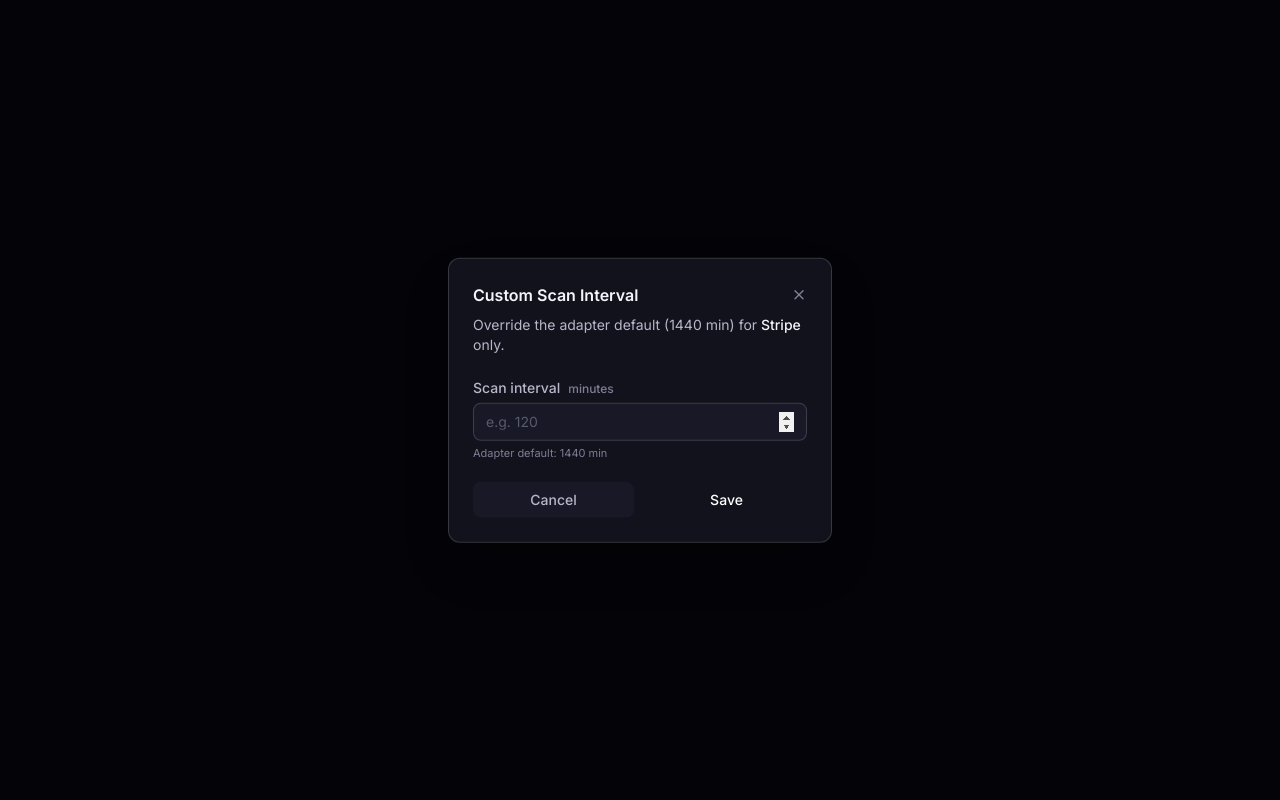
Test case: ScanIntervalOverrideModal › shows validation error for value above max
Step 1. Type "99999" into the number field → {"x": 640, "y": 422}, box [473,403,807,441]
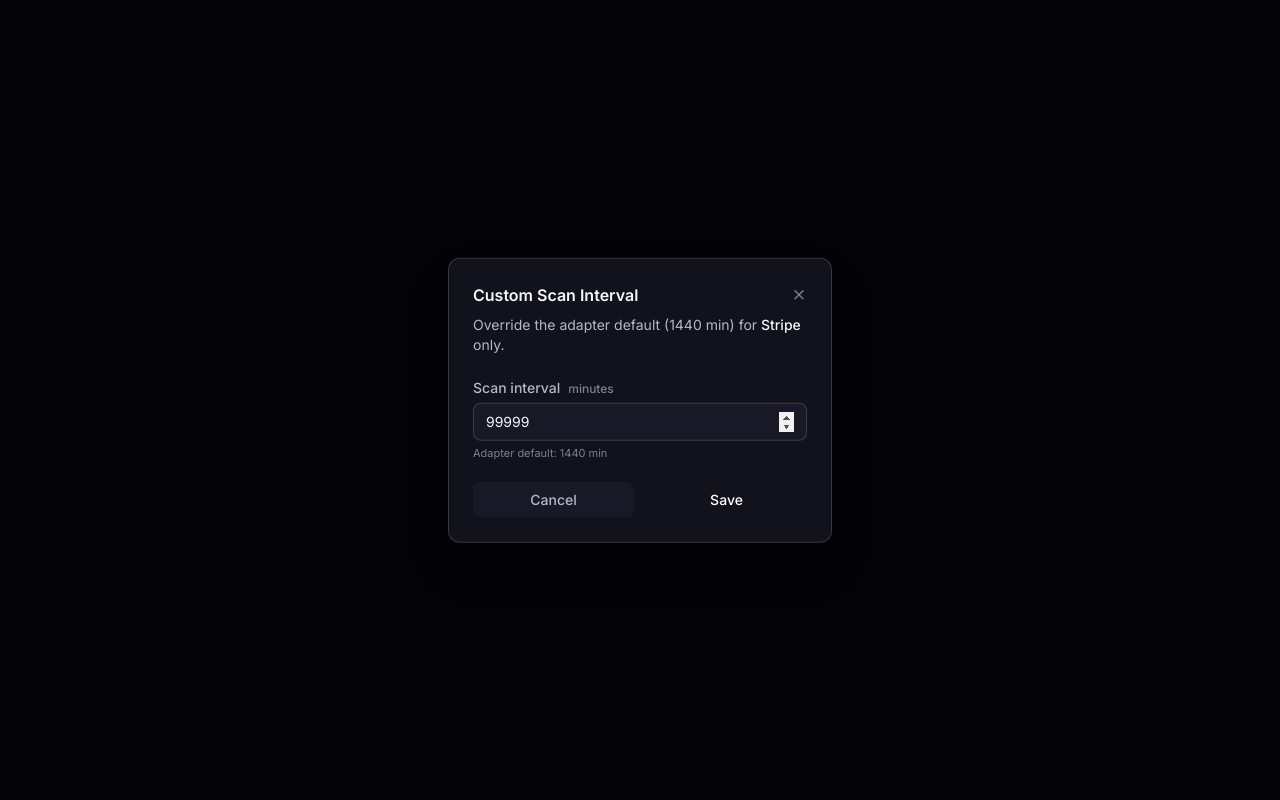
Step 2. Submit the form, box [473,375,807,517]
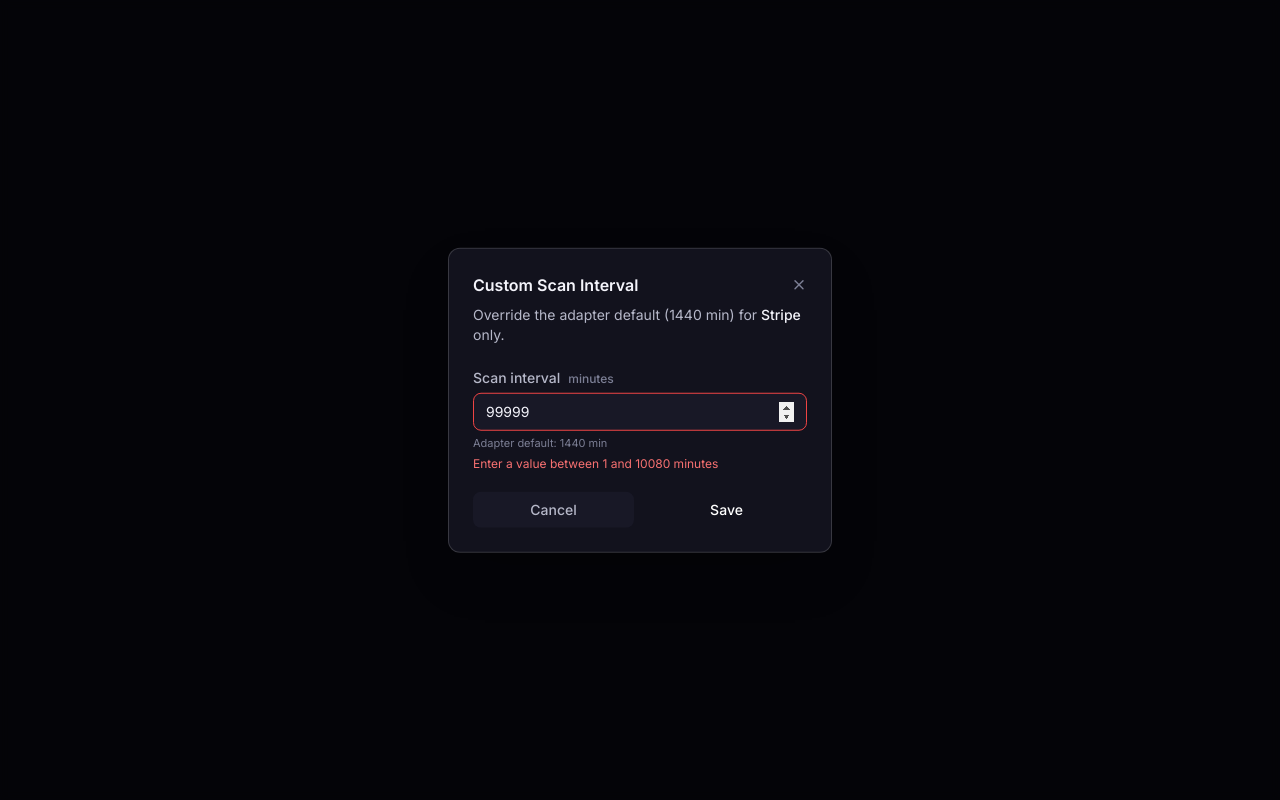
Expected: the text "Enter a value between 1 and 10080 minutes" is shown, [473,455,718,470]
